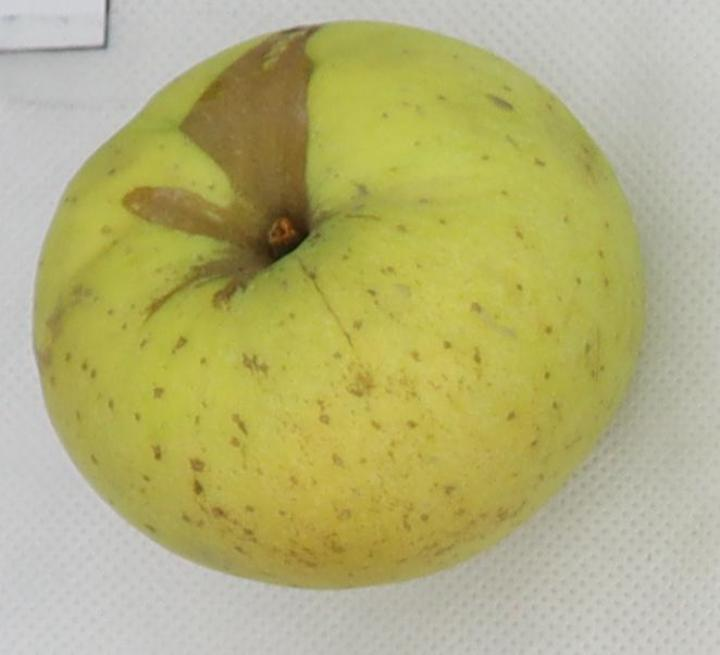apple: (34, 22, 642, 587)
bruise_discoloration: (124, 27, 320, 316)
